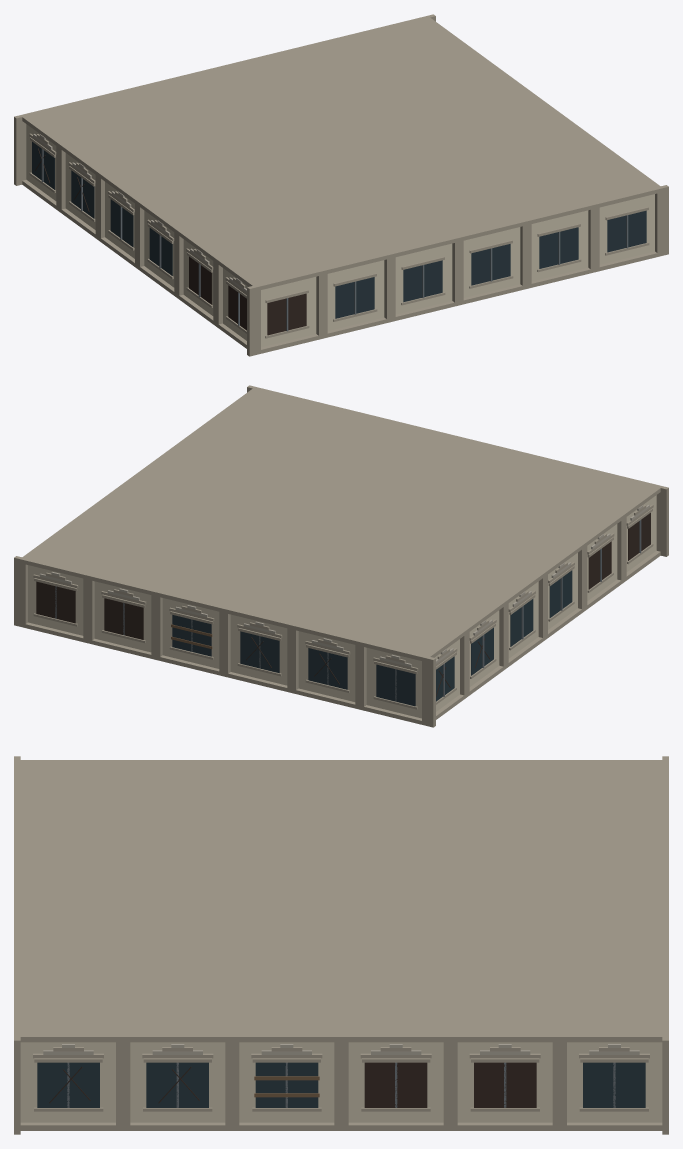
File: tw_deco_24_floor.glb
3 views of the same model, one above another, from view 1: azimuth 30°, elevation 25°; view 2: azimuth 150°, elevation 25°; view 3: azimuth 270°, elevation 25° (orthographic). The views are drawn at different scales.
Parts seen in each view (by area): view 1: tw_deco_24_floor; view 2: tw_deco_24_floor; view 3: tw_deco_24_floor.
Part boxes in pixels (<box>): tw_deco_24_floor: <box>14,14,668,356</box>; tw_deco_24_floor: <box>14,385,668,727</box>; tw_deco_24_floor: <box>14,756,668,1134</box>.
Bounding box in the file's own units: 24.68 × 3.8 × 24.
2 materials, 2 textured.
